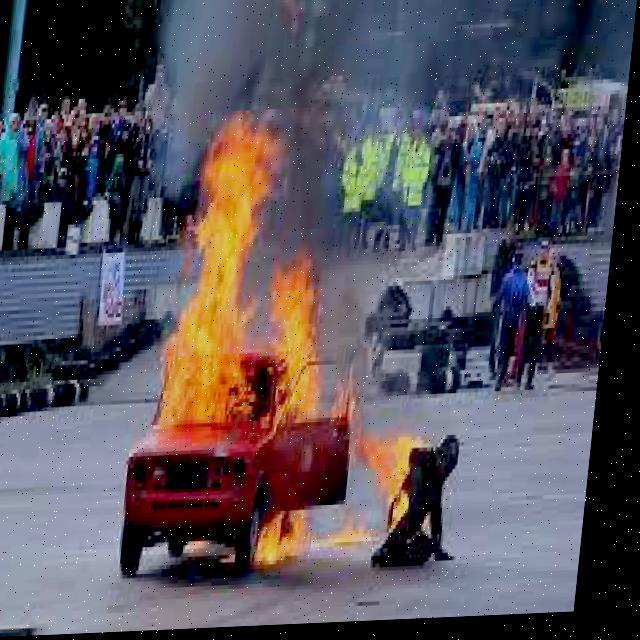Fire: (162, 119, 299, 442), (246, 246, 360, 584), (343, 380, 448, 539)
